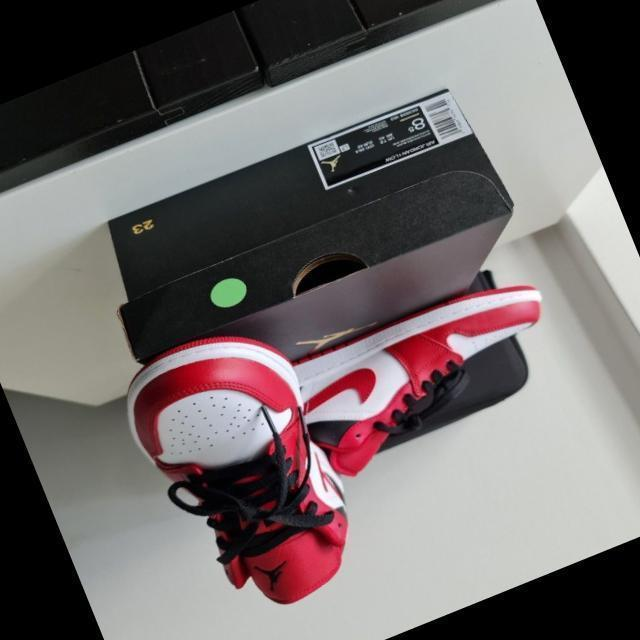nike original jordan 1: (104, 304, 380, 638), (268, 266, 580, 492)
